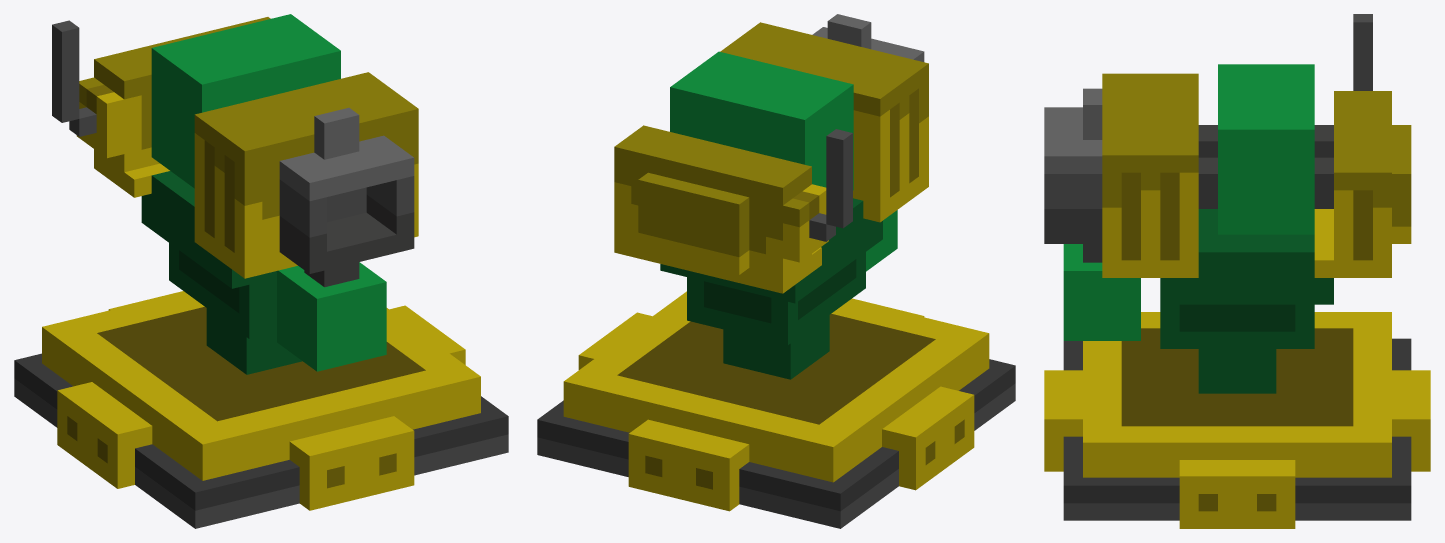
Rendered from Turret(Tower_Defens)-5.glb.
3 views of the same model, side by side, from view 1: azimuth 30°, elevation 25°; view 2: azimuth 150°, elevation 25°; view 3: azimuth 270°, elevation 25° (orthographic). The views are drawn at different scales.
Size of the model in its own units: 2 by 2.1 by 2.
1 material, 1 textured.
